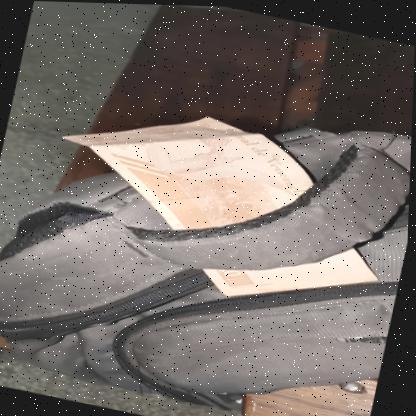vef_back: (33, 85, 406, 326)
